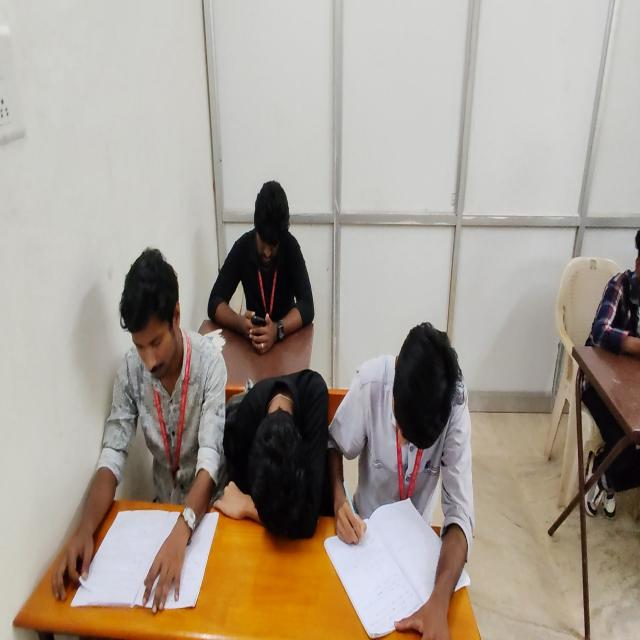reading: (52, 248, 230, 619), (330, 324, 470, 640)
sleeping: (218, 366, 330, 541)
using_mobile: (207, 179, 316, 352), (580, 214, 639, 522)
